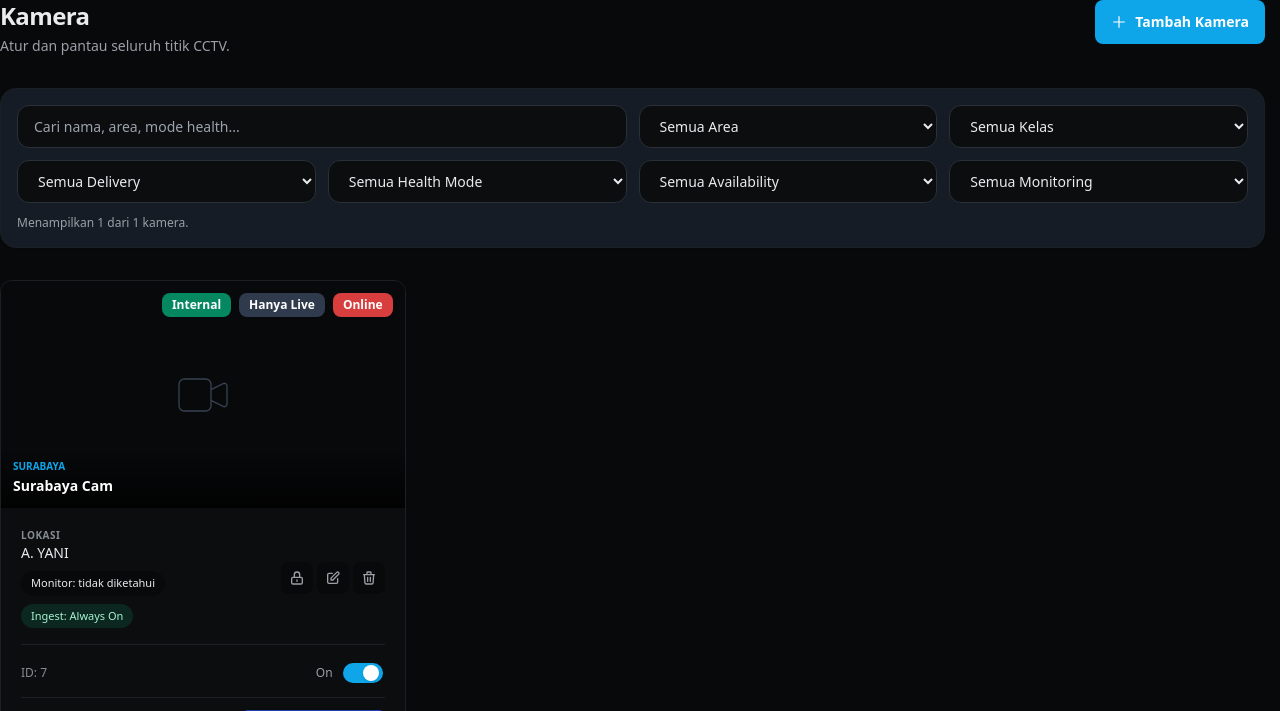
Test: CameraManagement › mengambil detail penuh saat edit agar RTSP internal tetap muncul di form
Expected: the heading "Surabaya Cam" is shown, 13,476 -> 113,495
Click the button titled "Edit kamera".
click(333, 578)  # box 317,562 -> 349,594
(page scrolled)
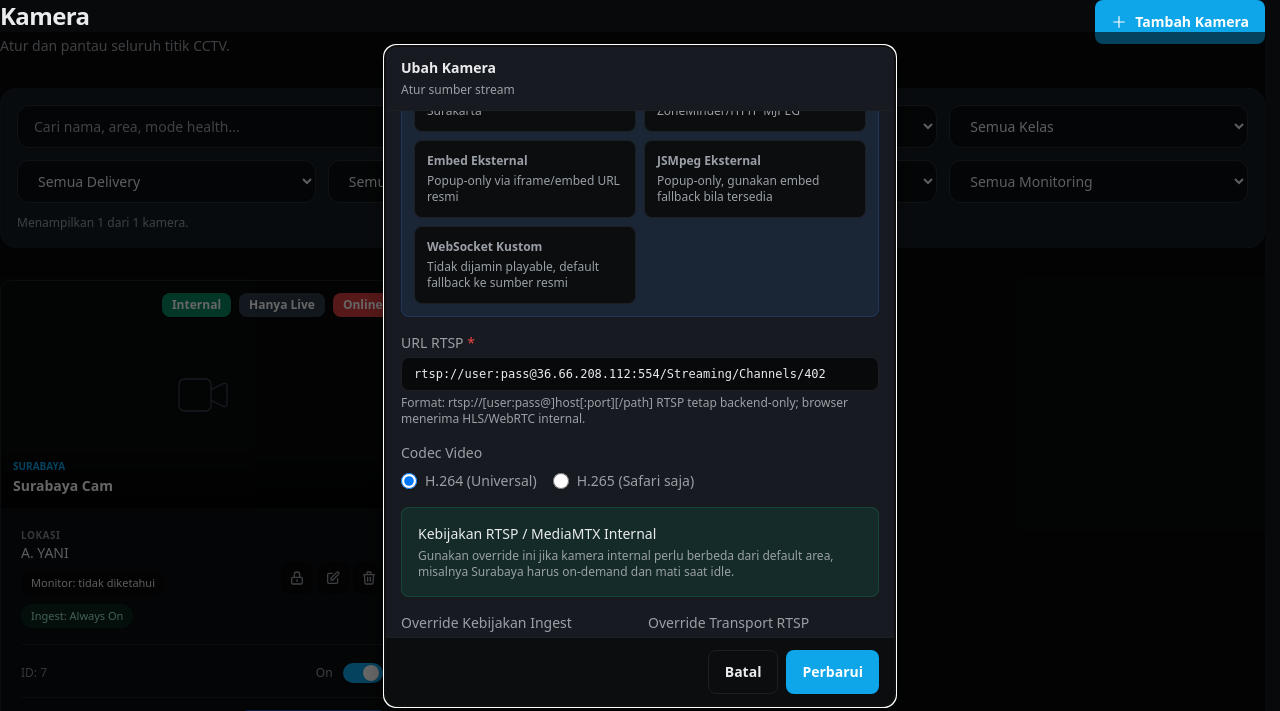
Result: the field showing "rtsp://user:pass@36.66.208.112:554/Streaming/Channels/402" is shown at 401,357 -> 879,391
